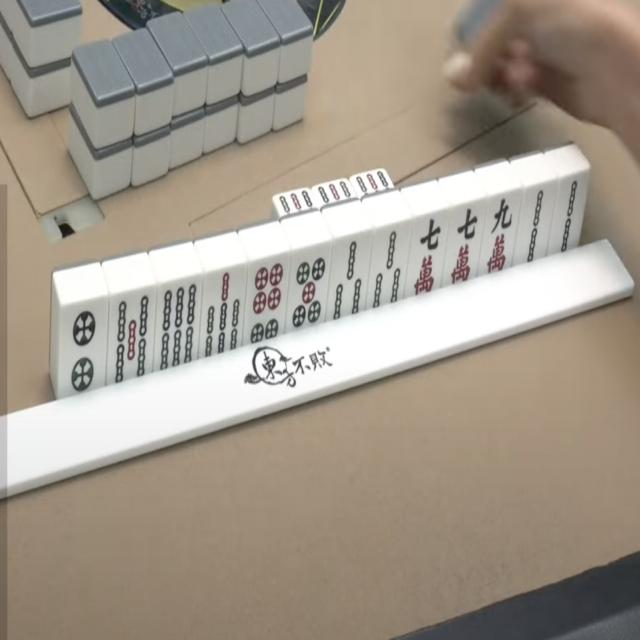m7: (407, 214, 449, 298), (445, 202, 486, 286)
m9: (480, 193, 520, 275)
s2: (512, 182, 556, 266), (551, 171, 589, 256)
s3: (328, 234, 374, 324), (368, 223, 412, 310)
s5: (109, 293, 154, 387)
s6: (155, 280, 203, 372)
s7: (200, 270, 247, 360)
t2: (60, 301, 108, 396)
t5: (288, 247, 331, 332)
t6: (247, 258, 291, 346)
